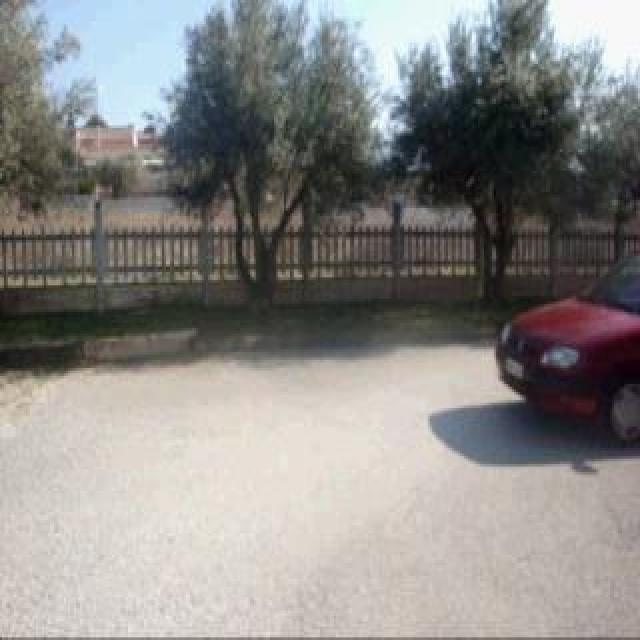other: (479, 263, 636, 421)
